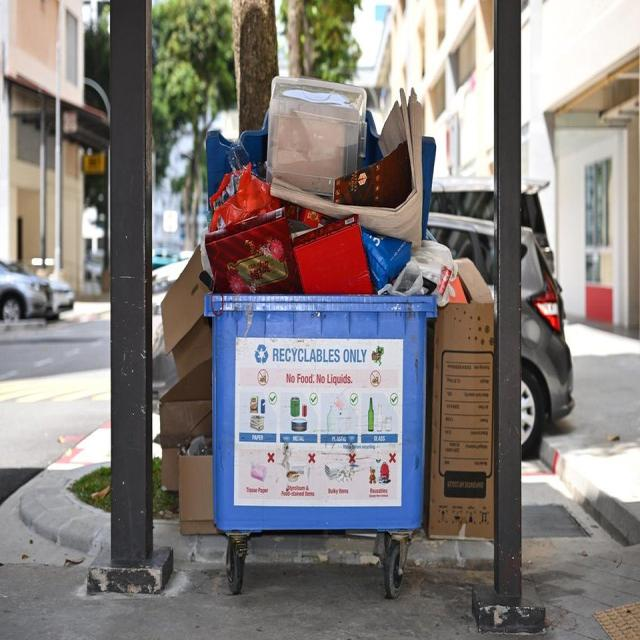bin_full: (193, 98, 432, 602)
bulk_waste: (422, 263, 496, 538), (264, 75, 368, 199), (160, 241, 214, 365), (176, 444, 218, 533), (156, 397, 214, 440), (450, 255, 493, 304), (160, 440, 183, 490)
normal_waste: (207, 164, 280, 234), (410, 237, 458, 306), (368, 396, 374, 431)
